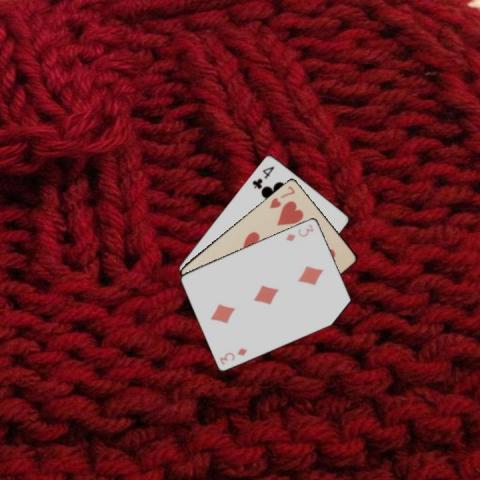3d: (282, 221, 314, 243), (217, 345, 248, 365)
4c: (250, 163, 276, 190)
7h: (267, 183, 296, 209)
